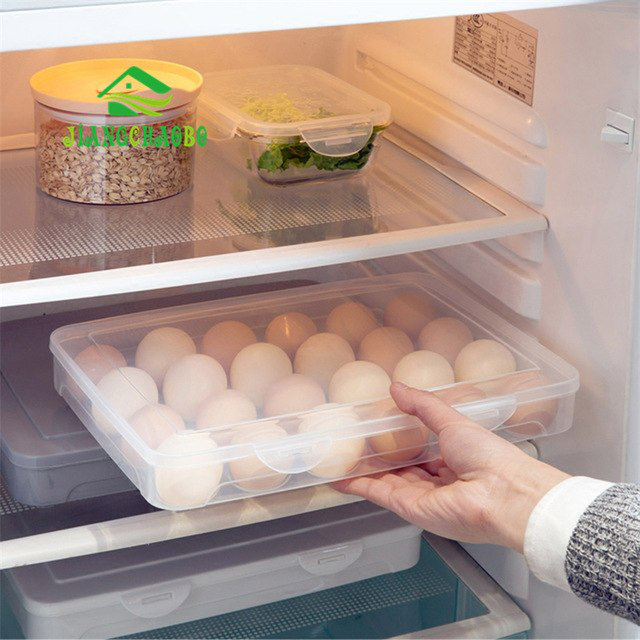egg: (80, 295, 570, 488)
